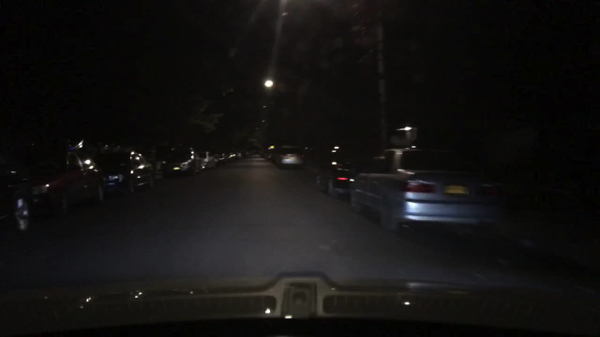car: (347, 146, 505, 242), (17, 149, 108, 217), (90, 147, 156, 196), (0, 158, 36, 236), (315, 154, 372, 199), (160, 147, 203, 179), (273, 144, 306, 170), (196, 151, 220, 169), (214, 152, 229, 164), (263, 145, 275, 159), (224, 151, 237, 162), (241, 149, 251, 157), (258, 147, 266, 156), (235, 152, 244, 159)
